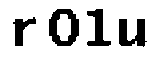0: (46, 5, 81, 49)
1: (85, 7, 112, 51)
r: (9, 16, 39, 48)
u: (115, 14, 148, 52)
